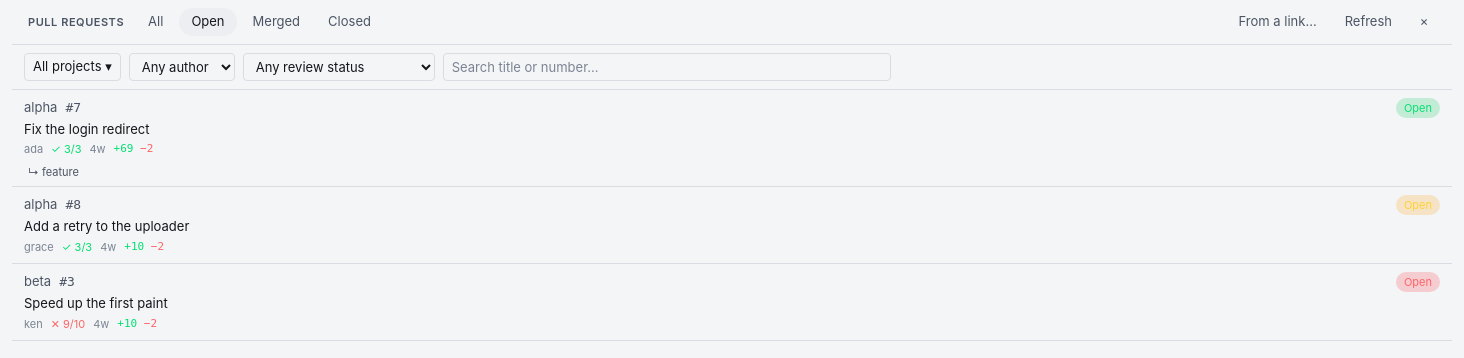
Test: filters › narrows by project, author and review status, together, and remembers each
Click the button with aria-label "Projects: All projects". click: [72, 66]
box: [24,52,121,80]
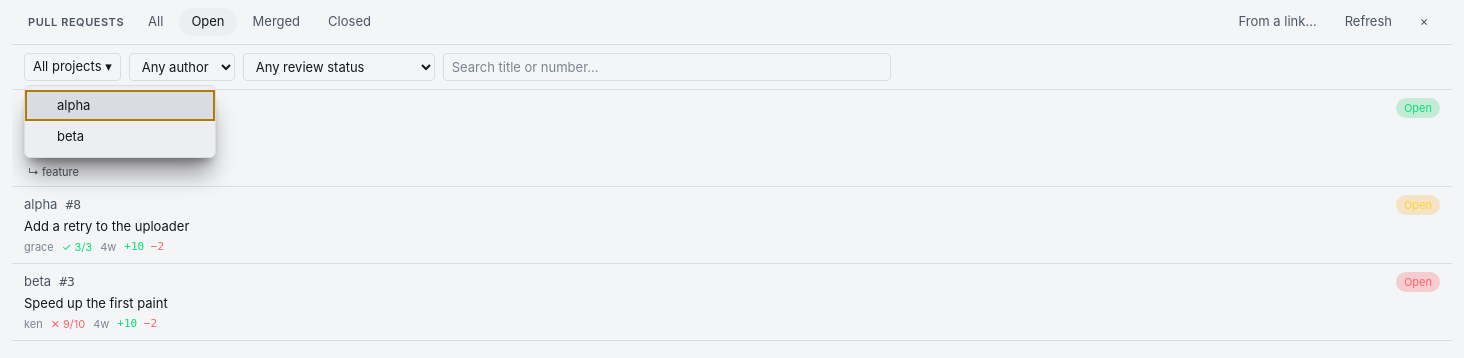
Click the menu item "alpha". click: [120, 105]
box: [25,90,215,121]
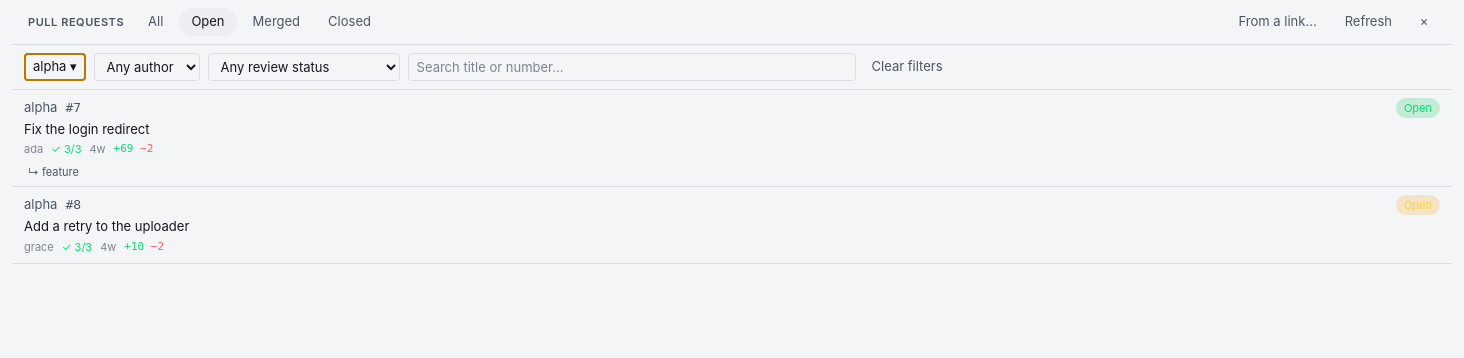
Check: the button with aria-label "Projects: alpha" is shown, box [24,52,86,80]
Select "grace" in the dropdown named "Author". click: [147, 66]
box: [94,52,200,80]
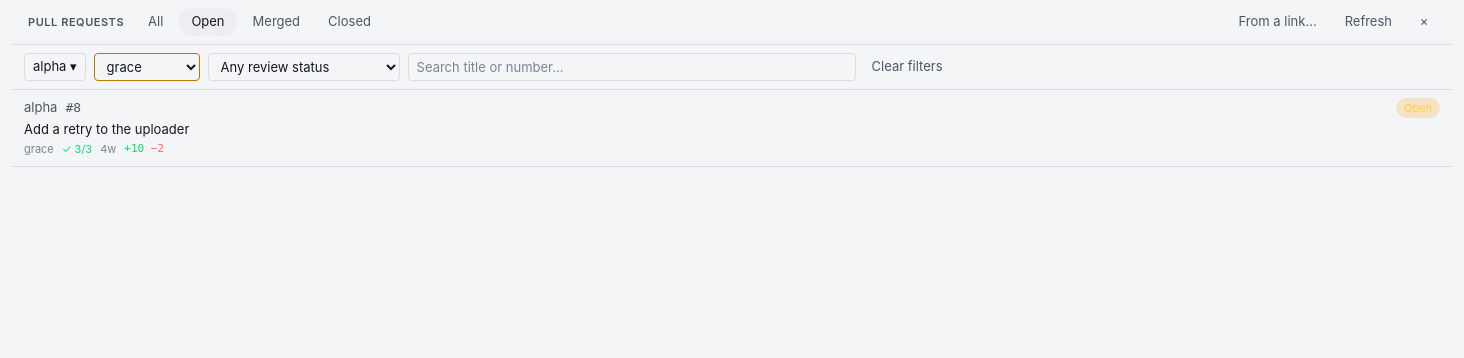
Select "Awaiting review from you" in the dropdown named "Reviews". click: [304, 66]
box: [208,52,400,80]
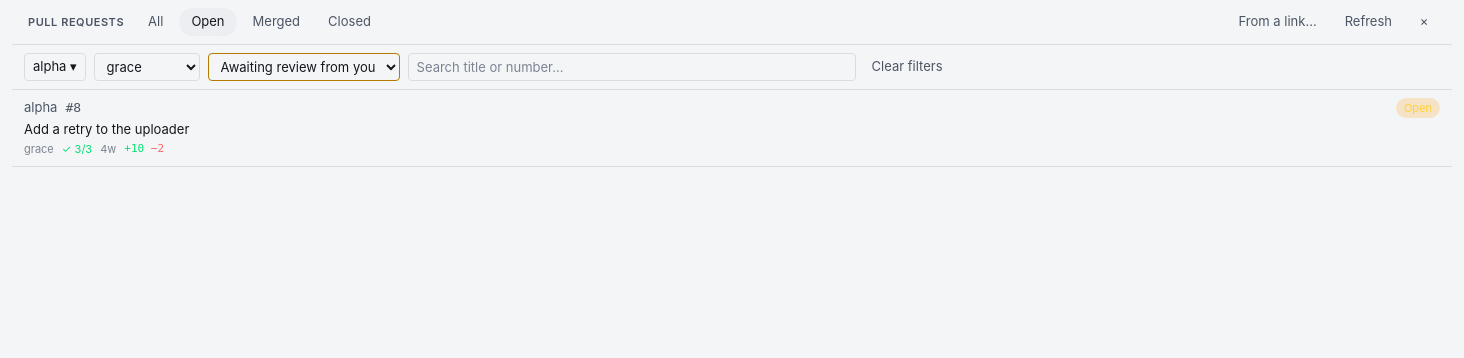
Select "Approved" in the dropdown named "Reviews". click: [304, 66]
box: [208,52,400,80]
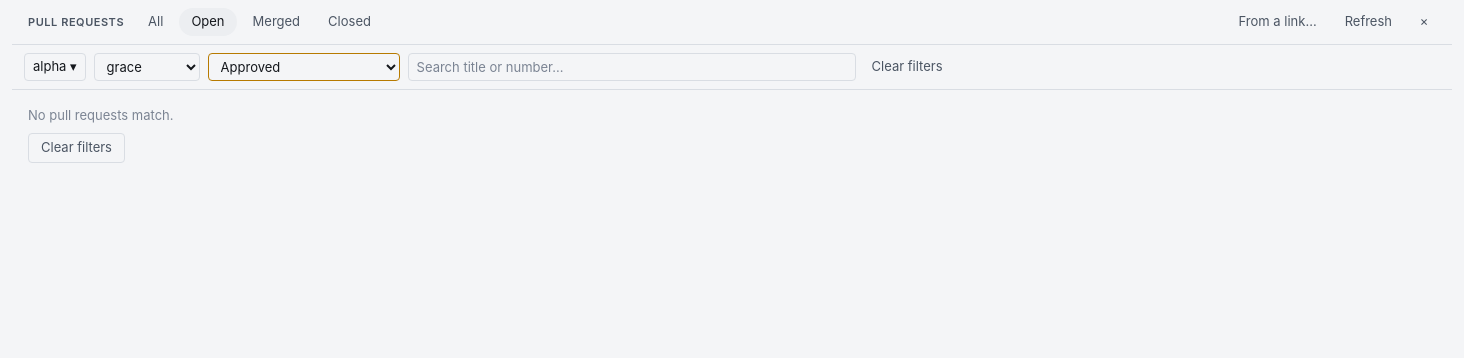
Check: the message shows "No pull requests match.", box [28,106,174,122]
